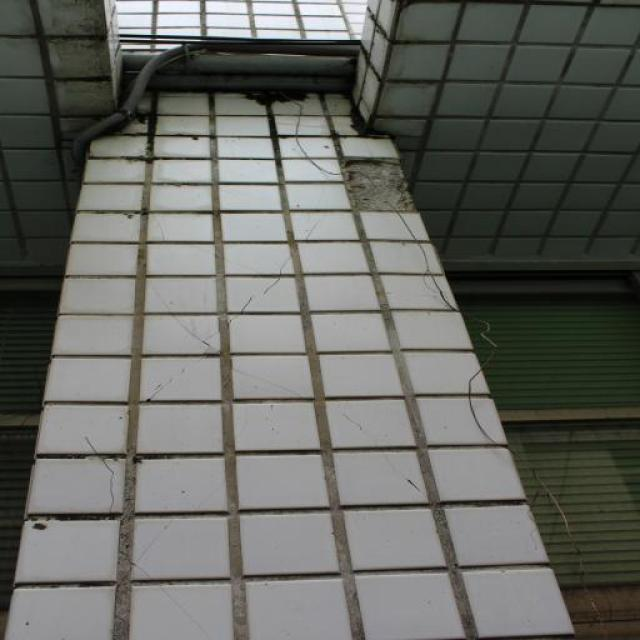D10: (342, 160, 414, 212)
